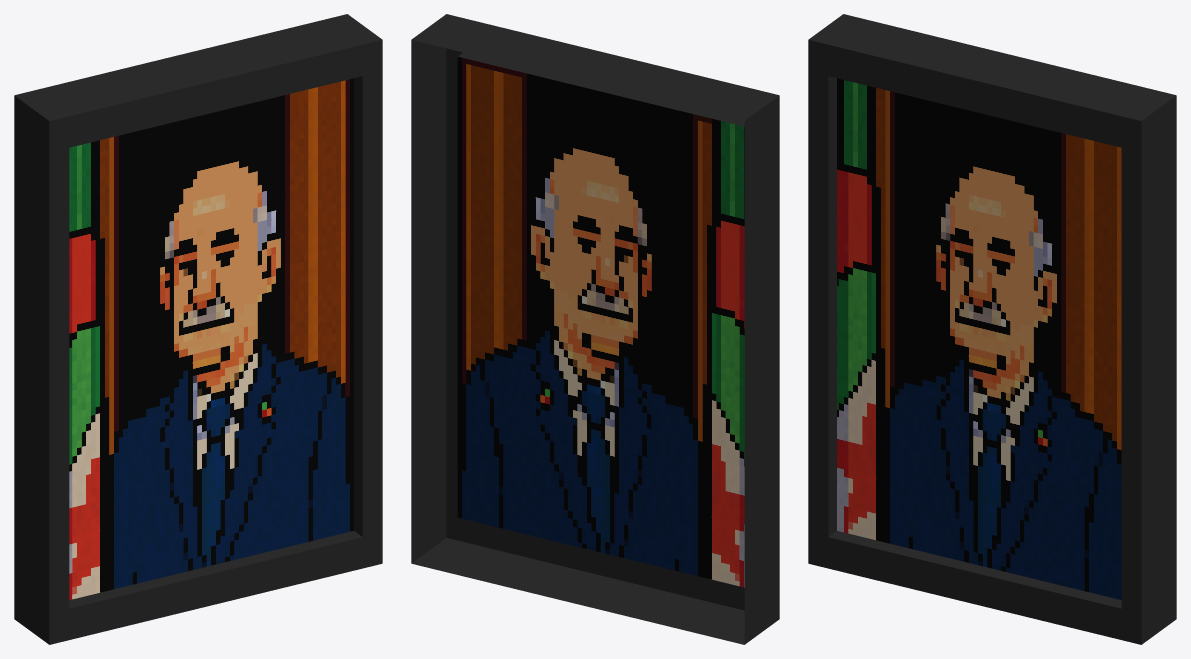
The model's file is cadre_aemi_teboun.fbx.
3 renders of one model, left to right at view 1: azimuth 30°, elevation 25°; view 2: azimuth 150°, elevation 25°; view 3: azimuth 330°, elevation 25°, orthographic.
Parts seen in each view (by area): view 1: cadre teboun; view 2: cadre teboun; view 3: cadre teboun.
Part boxes in pixels (x1=…): cadre teboun: x1=14, y1=14, x2=382, y2=644; cadre teboun: x1=411, y1=14, x2=779, y2=644; cadre teboun: x1=808, y1=14, x2=1176, y2=644.
Size of the model in its own units: 42.53 by 63.86 by 7.8.
